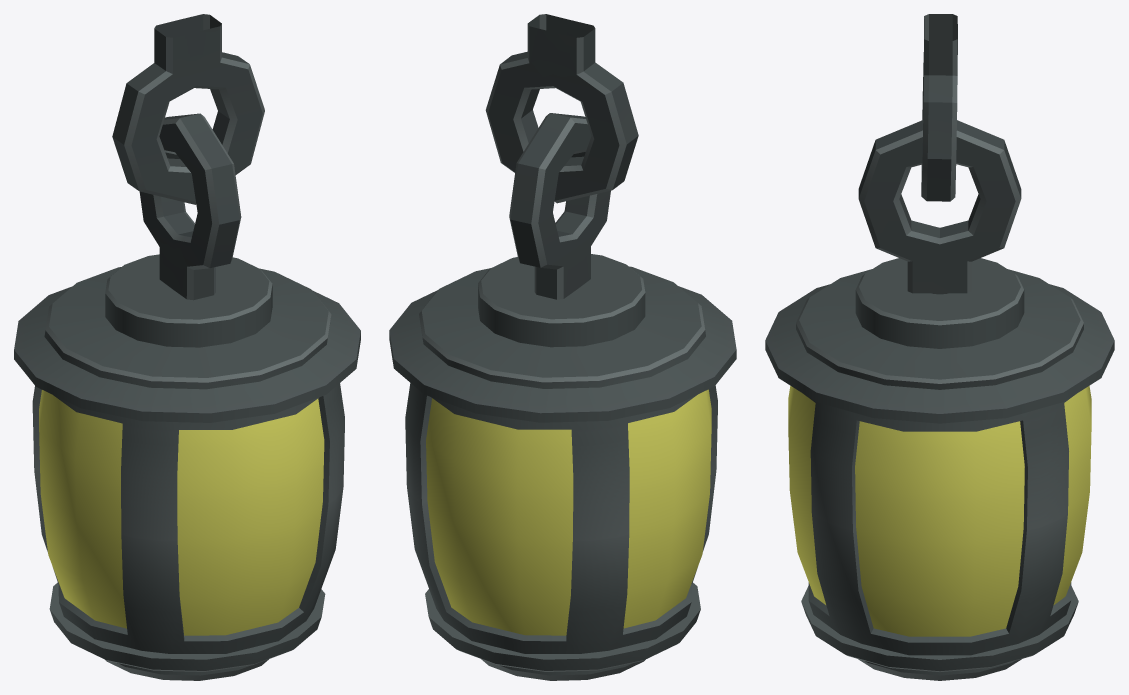
File: Lamp-1-1.fbx
3 views of the same model, side by side, from view 1: azimuth 30°, elevation 25°; view 2: azimuth 150°, elevation 25°; view 3: azimuth 270°, elevation 25° (orthographic).
Parts seen in each view (by area): view 1: Lamp-1-1; view 2: Lamp-1-1; view 3: Lamp-1-1.
Part boxes in pixels (x1,y1,x2,y2): Lamp-1-1: (14,14,360,680); Lamp-1-1: (389,14,736,680); Lamp-1-1: (765,14,1114,680).
Size of the model in its own units: 56.5 by 114 by 56.5.
